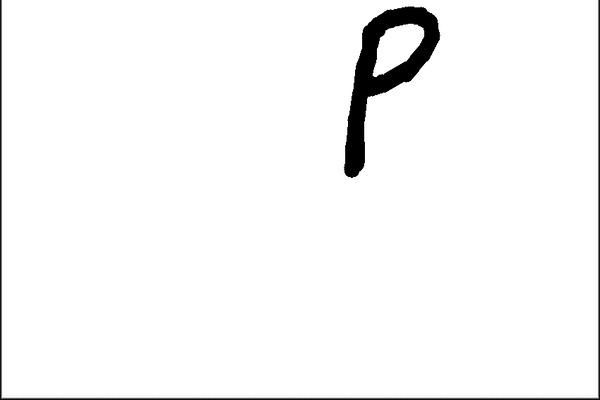P: (332, 4, 449, 178)
